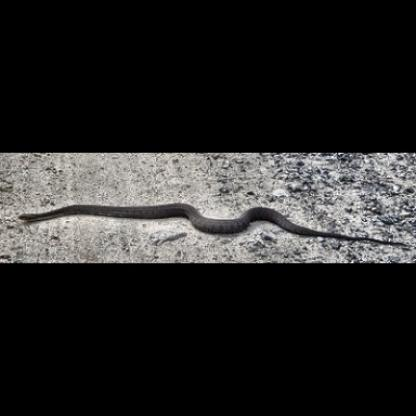Snake: (15, 196, 416, 259)
